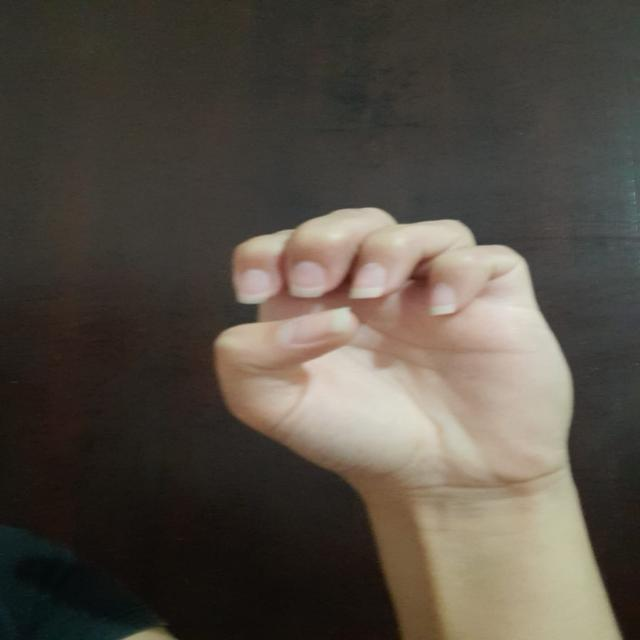E: (192, 200, 591, 494)
